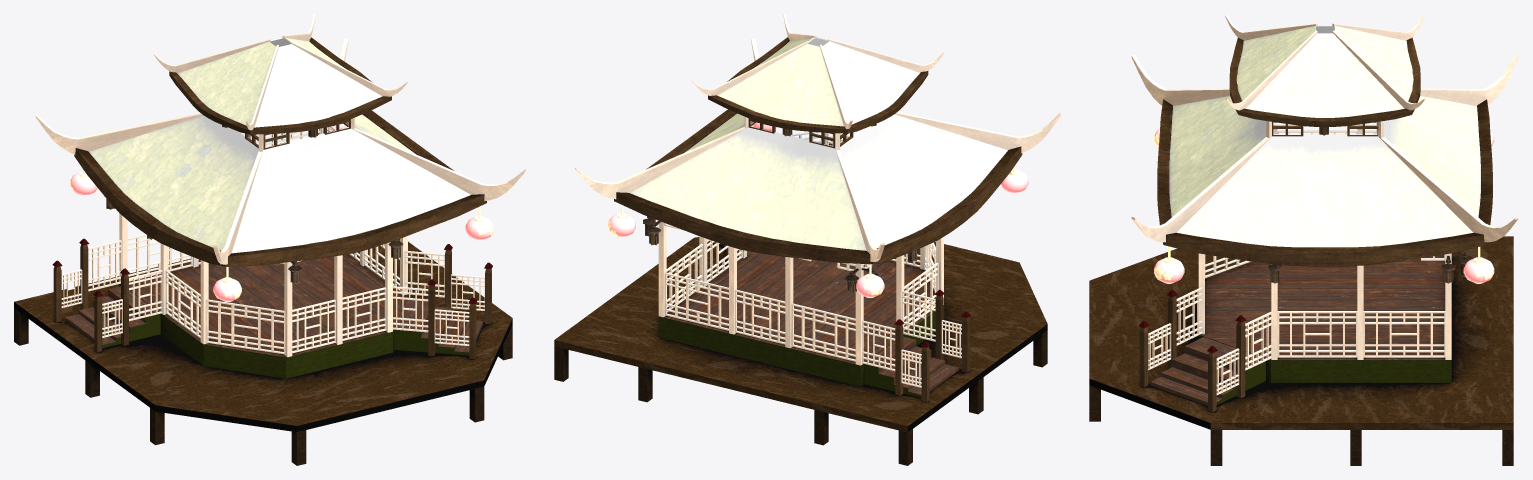
The model's file is test0213_temple.gltf.
3 renders of one model, left to right at view 1: azimuth 30°, elevation 25°; view 2: azimuth 150°, elevation 25°; view 3: azimuth 270°, elevation 25°, orthographic. The views are drawn at different scales.
Parts seen in each view (by area): view 1: Cube.001, Cube.057, Cube.003, Cube.048, Cube.002, Cube.023, Cube.030, Cube.022, Cube.005, Cube.033, Cube.060, Cube.025 (+4 smaller); view 2: Cube.001, Cube.057, Cube.003, Cube.002, Cube.048, Cube.023, Cube.022, Cube.005, Cube.060, Cube.025, Cube.030, Cube.033 (+4 smaller); view 3: Cube.001, Cube.057, Cube.003, Cube.002, Cube.023, Cube.048, Cube.022, Cube.030, Cube.025, Cube.024, Cube.033, Cube.005 (+4 smaller).
Part boxes in pixels (bbox=[...]): Cube.001: bbox=[89, 114, 470, 253]; Cube.057: bbox=[14, 239, 512, 432]; Cube.003: bbox=[119, 254, 408, 378]; Cube.048: bbox=[61, 234, 484, 354]; Cube.002: bbox=[177, 37, 381, 127]; Cube.023: bbox=[74, 110, 486, 266]; Cube.030: bbox=[65, 286, 483, 355]; Cube.022: bbox=[35, 38, 525, 264]; Cube.005: bbox=[119, 128, 407, 357]; Cube.033: bbox=[52, 238, 492, 359]; Cube.060: bbox=[14, 308, 512, 465]; Cube.025: bbox=[169, 37, 391, 134]; Cube.001: bbox=[630, 113, 1007, 250]; Cube.057: bbox=[554, 237, 1047, 432]; Cube.003: bbox=[658, 253, 944, 386]; Cube.002: bbox=[717, 37, 919, 126]; Cube.048: bbox=[665, 239, 961, 387]; Cube.023: bbox=[614, 109, 1022, 264]; Cube.022: bbox=[575, 38, 1060, 261]; Cube.005: bbox=[658, 132, 943, 365]; Cube.060: bbox=[554, 330, 1047, 465]; Cube.025: bbox=[708, 37, 928, 133]; Cube.030: bbox=[722, 244, 958, 397]; Cube.033: bbox=[713, 241, 970, 402]; Cube.001: bbox=[1169, 96, 1480, 247]; Cube.057: bbox=[1089, 236, 1513, 429]; Cube.003: bbox=[1198, 254, 1451, 382]; Cube.002: bbox=[1236, 25, 1413, 117]; Cube.023: bbox=[1157, 99, 1492, 266]; Cube.048: bbox=[1148, 254, 1445, 395]; Cube.022: bbox=[1131, 54, 1518, 242]; Cube.030: bbox=[1150, 337, 1265, 405]; Cube.025: bbox=[1229, 37, 1420, 127]; Cube.024: bbox=[1225, 14, 1425, 110]; Cube.033: bbox=[1138, 290, 1246, 412]; Cube.005: bbox=[1198, 124, 1451, 359].
Bounding box in the file's own units: 4.17 × 3.59 × 4.04.
Materials: 17 (9 with a texture image).
